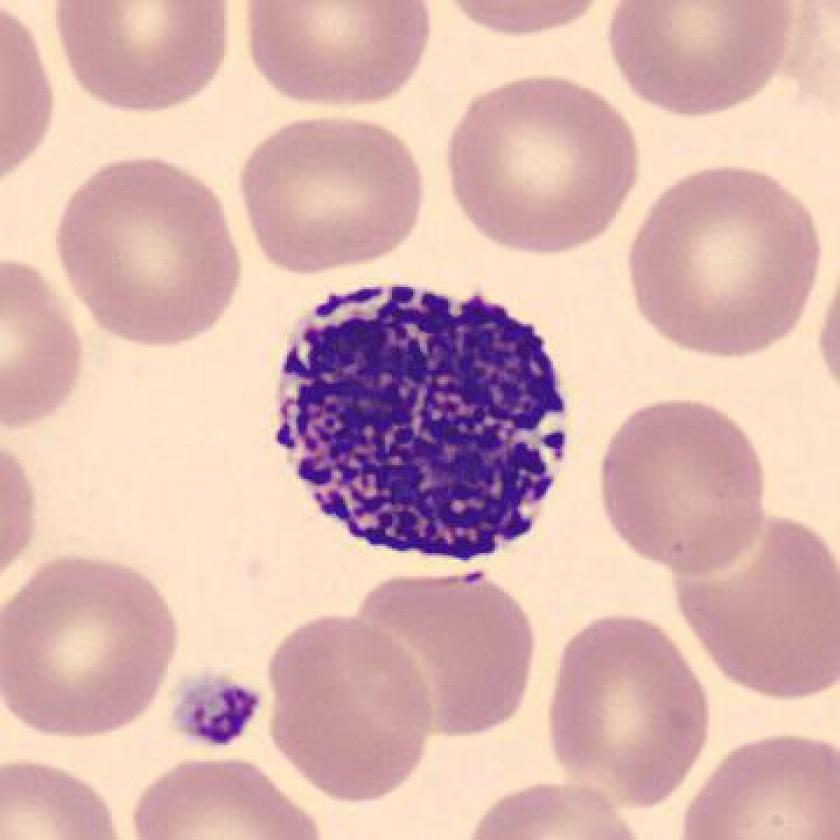basophil: (276, 279, 573, 566)
